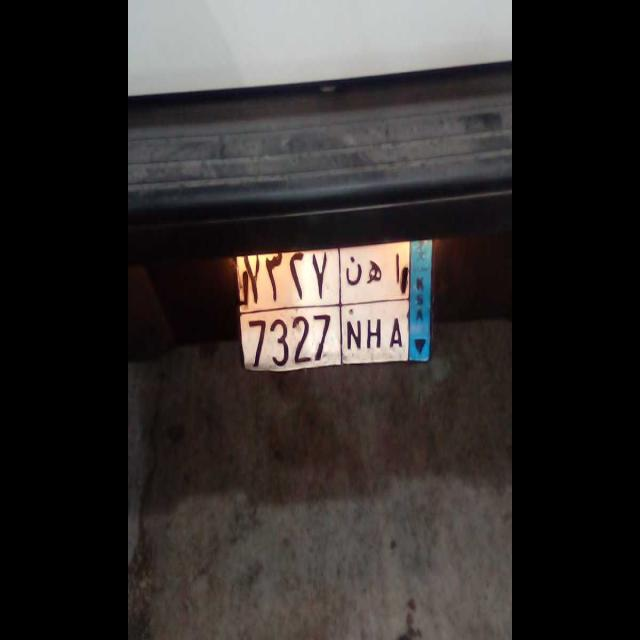license_plate: (236, 306, 408, 378)
